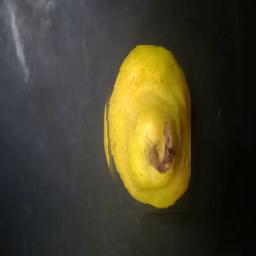Pear Semifresh: (102, 45, 191, 215)
